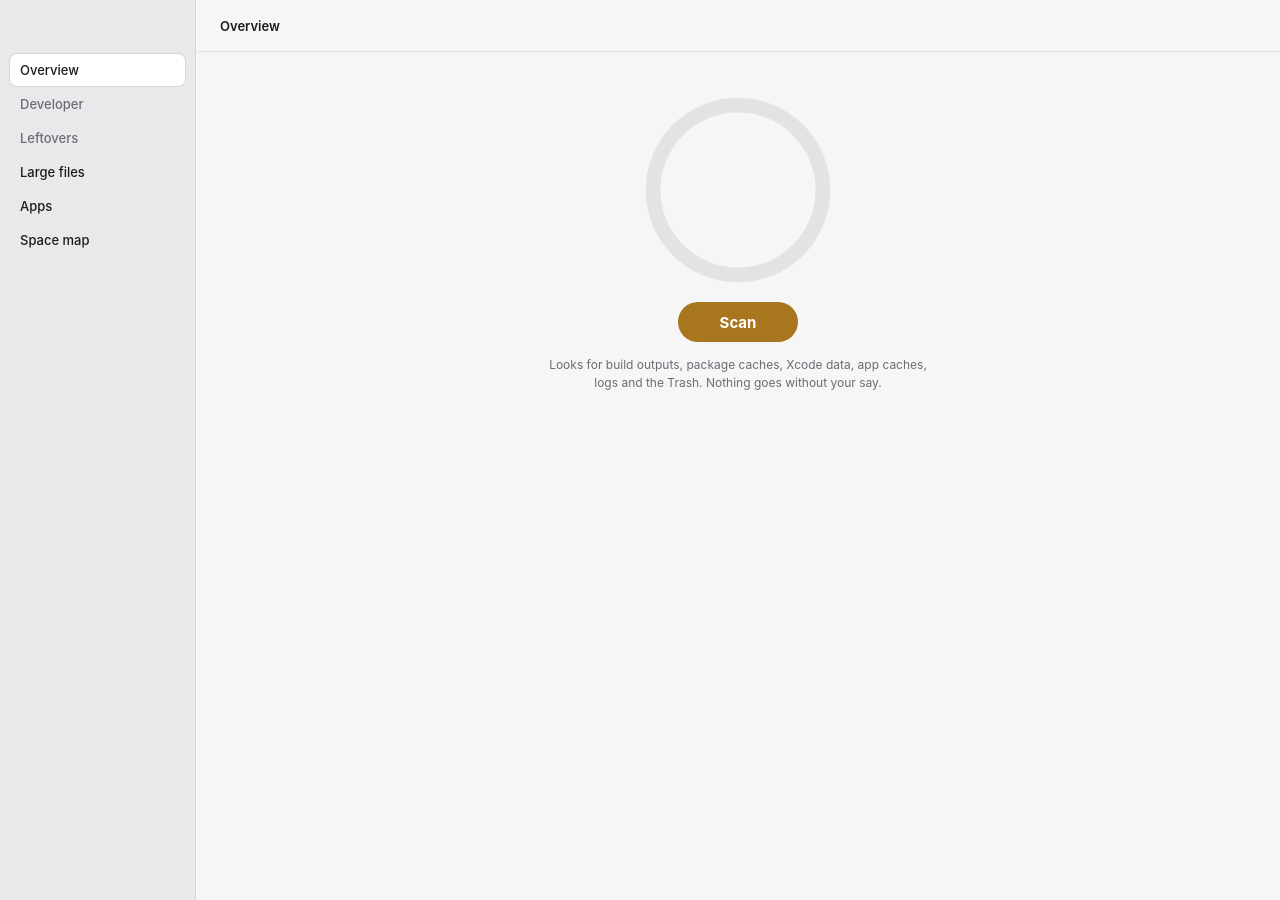
the cleaner window › stops the Gradle daemon that alone keeps a build output in use, then looks at the list again
The width and height of the screenshot is (1280, 900).
Click the button "Scan".
click(738, 322)  # box [678,302,798,342]
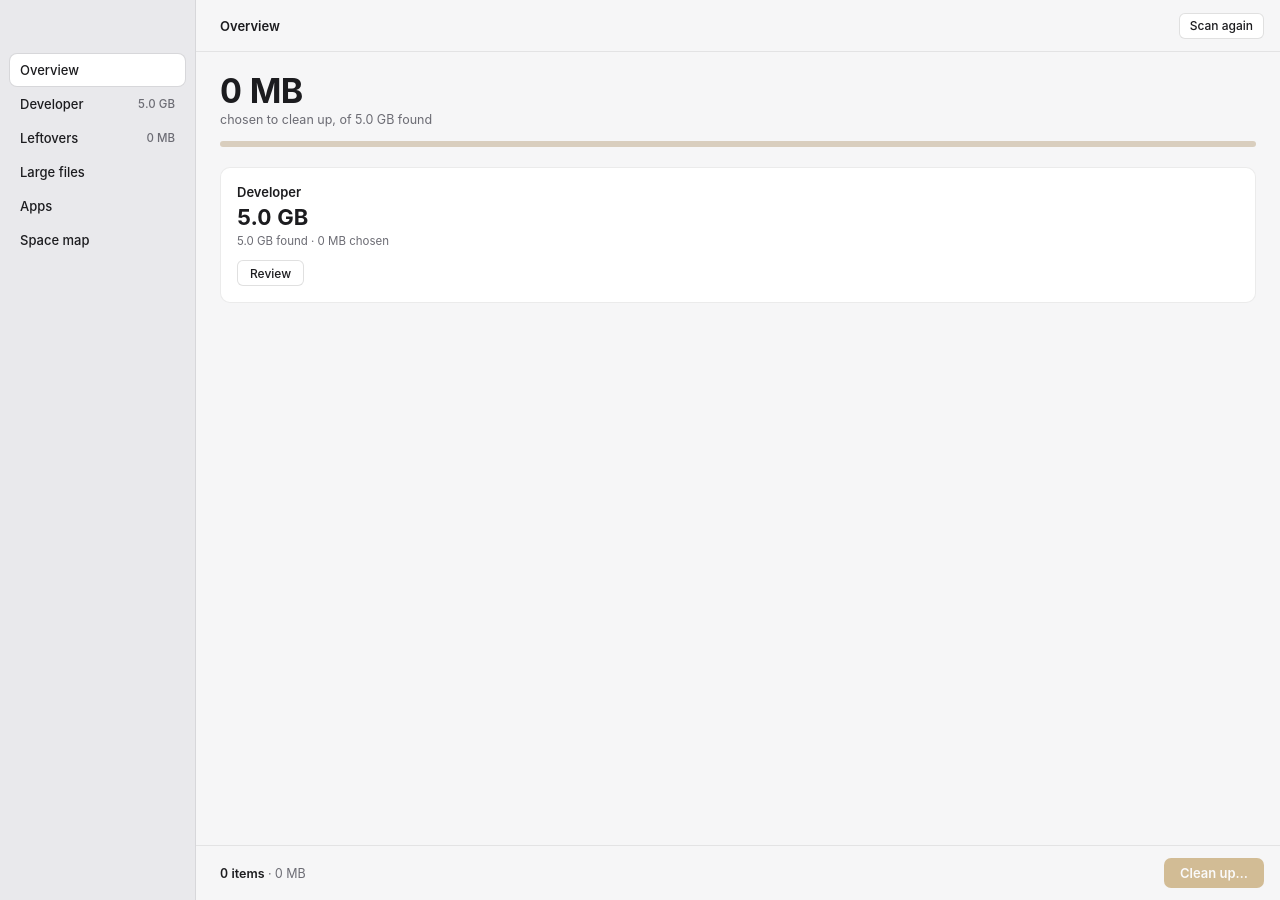
Click the button "Developer 5.0 GB".
click(98, 104)  # box [10,88,185,120]
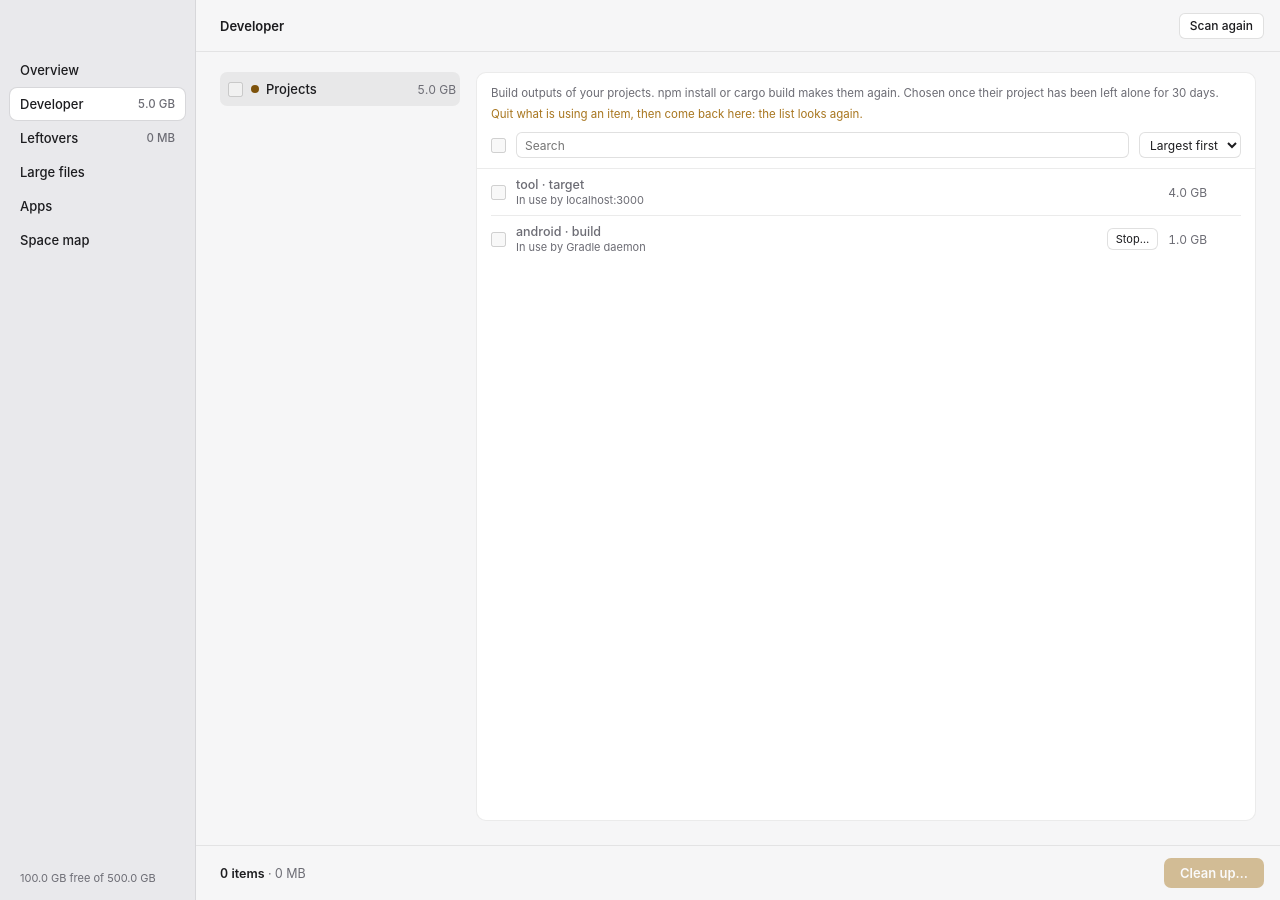
Click the button with aria-label "Stop Gradle daemon".
click(1132, 239)  # box [1107,228,1158,250]
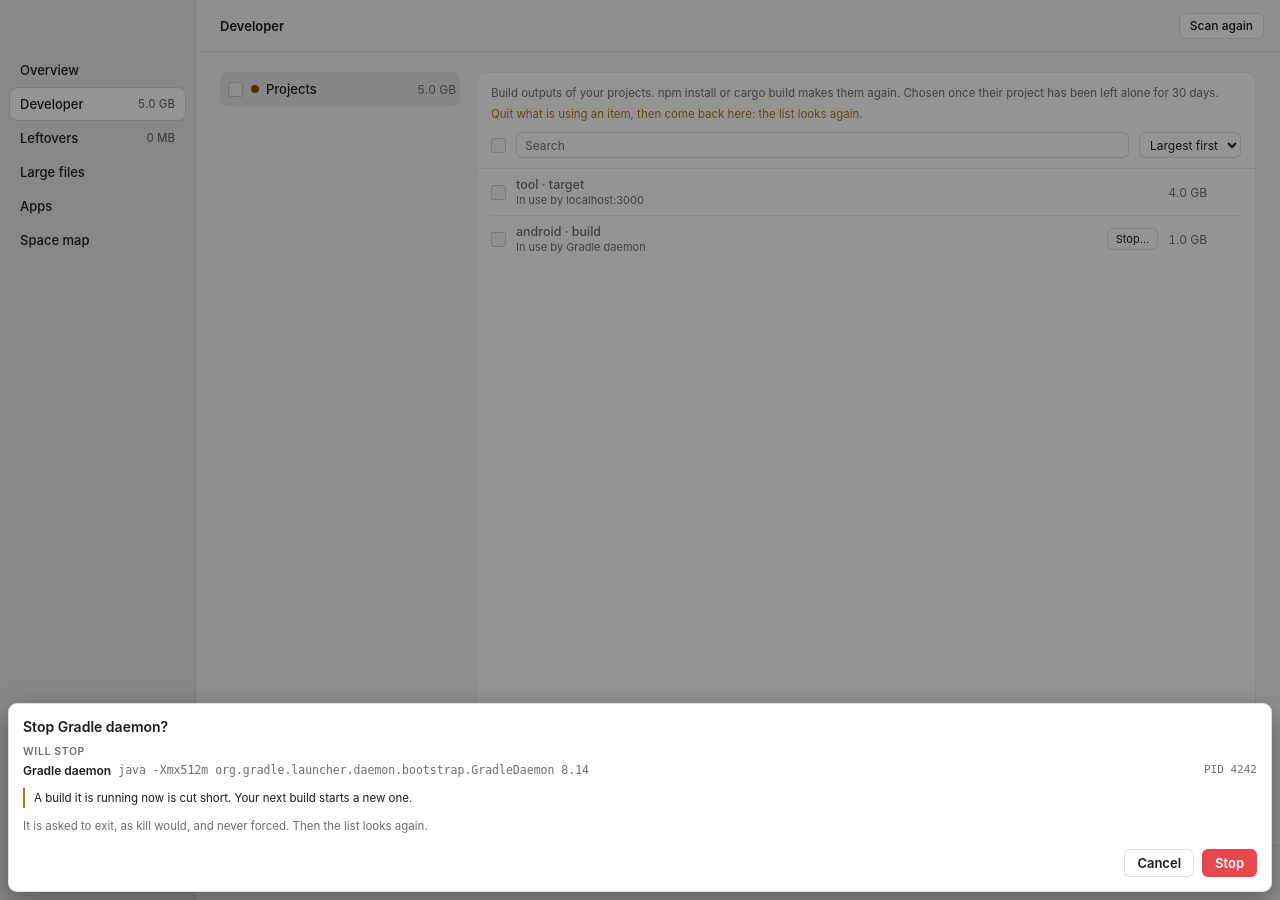
Check: the text "PID 4242" is shown, box [1204,763,1257,778]
Click the button "Stop".
click(1230, 863)  # box [1202,849,1257,877]
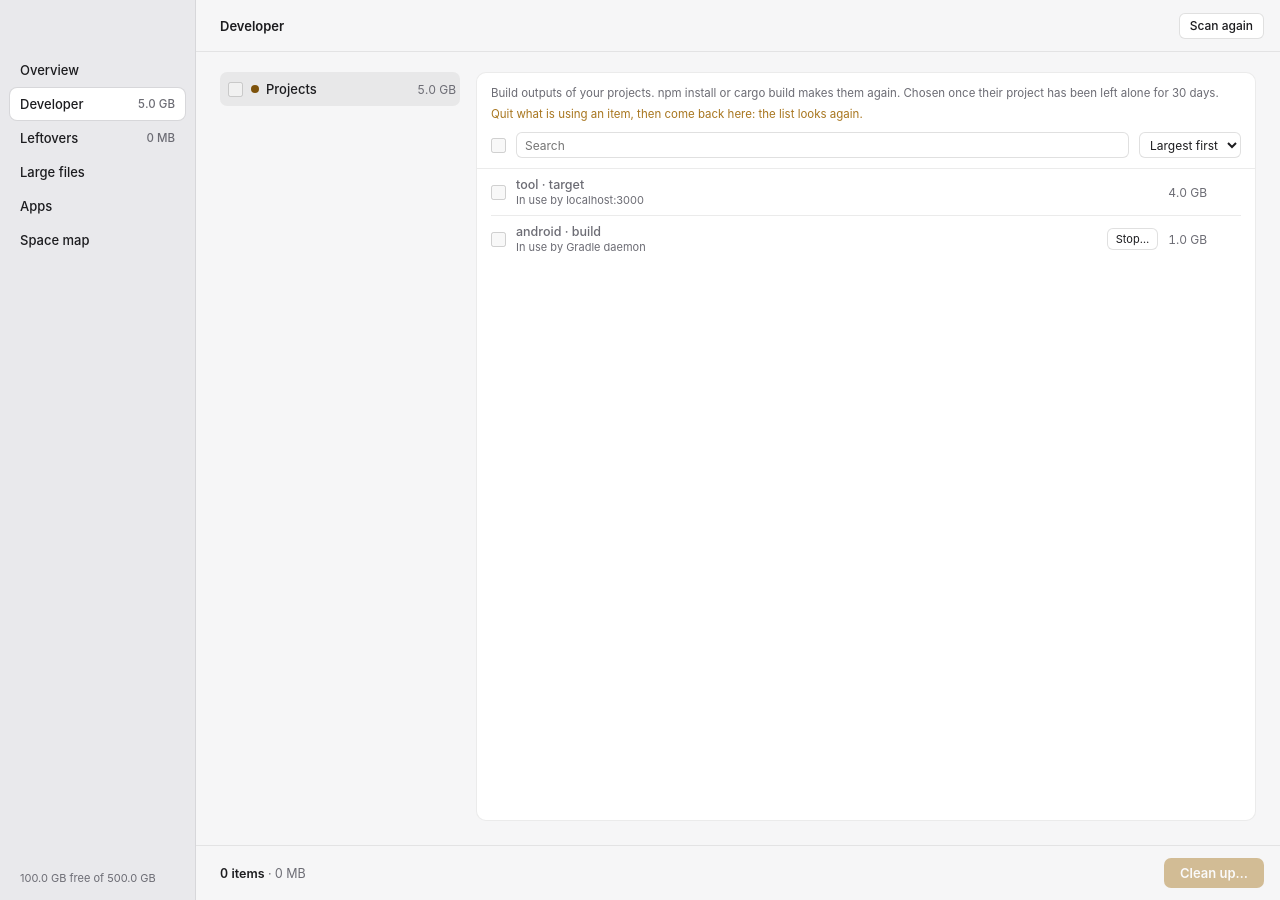
Check: the dialog is gone
